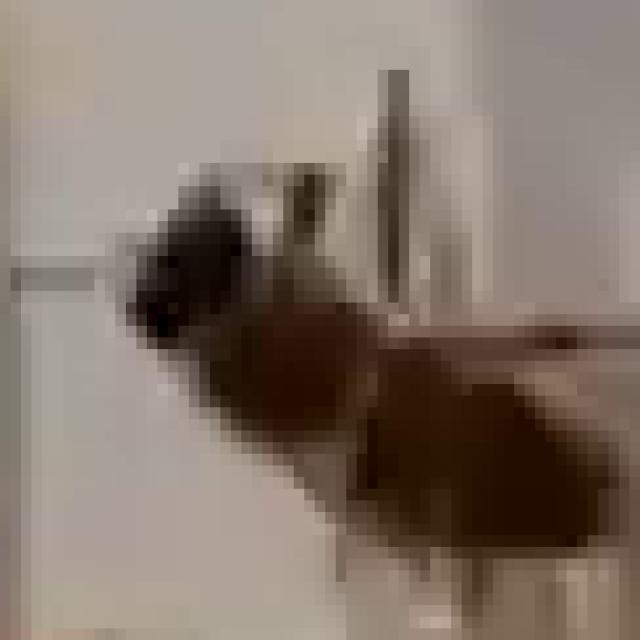honeybee: (108, 154, 609, 571)
